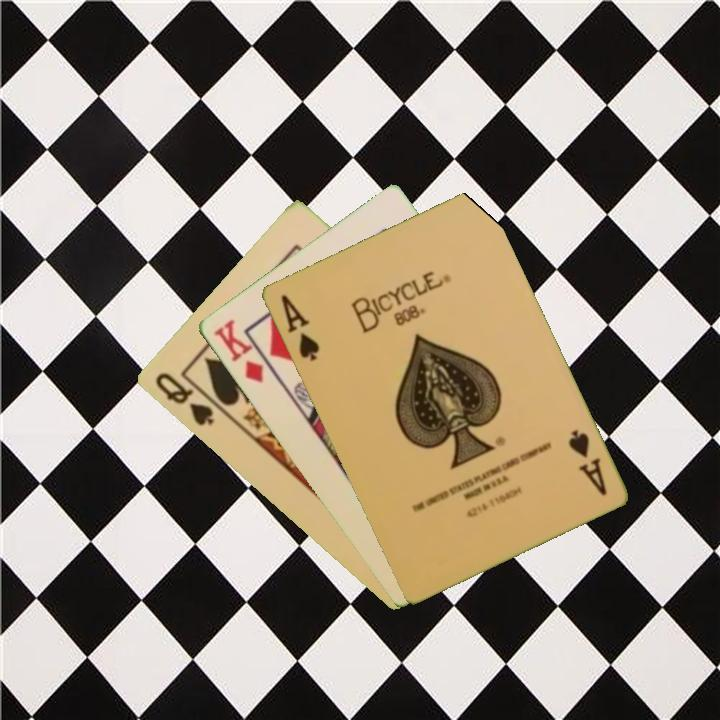As: (564, 425, 609, 499), (277, 291, 322, 364)
Kd: (209, 315, 266, 386)
Qs: (151, 369, 217, 429)
